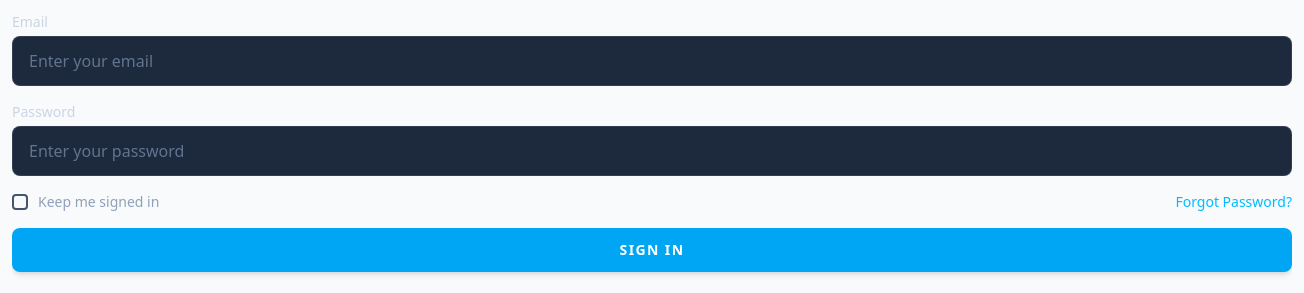
Test: Login Component › shows ForgotPassword view when Forgot Password? is clicked
Click the button "Forgot Password?" at (1234, 202), box [1175,192,1292,212]
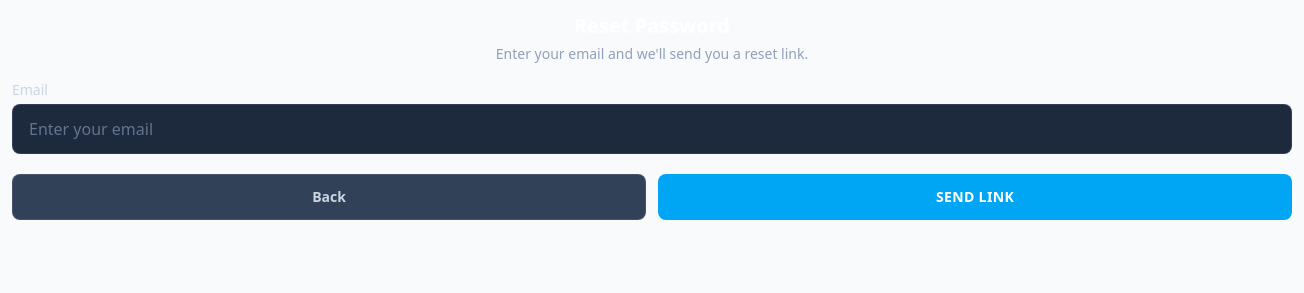
Expected: the button "Sign In" is gone
